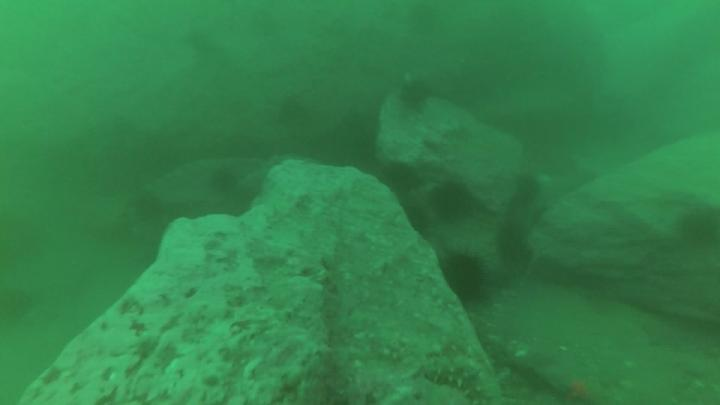echinus: (442, 252, 483, 302), (430, 185, 471, 222), (382, 163, 419, 196), (402, 80, 431, 106), (279, 99, 304, 126), (517, 174, 541, 202)
holothurian: (425, 356, 503, 405)
starfish: (557, 373, 599, 405)
